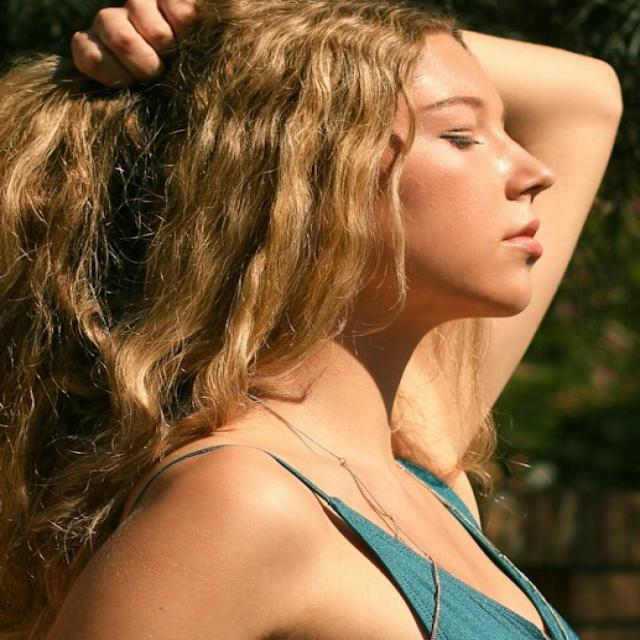front: (390, 69, 567, 286)
